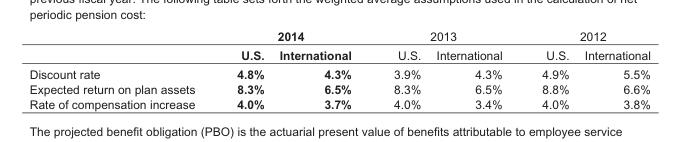table: (28, 28, 649, 110)
table column: (28, 28, 215, 110), (271, 28, 371, 110), (427, 28, 521, 110), (576, 28, 649, 110), (215, 28, 271, 110), (371, 28, 427, 110), (521, 28, 576, 110)
table column header: (28, 28, 649, 64)
table row: (28, 45, 649, 64), (28, 28, 649, 45), (28, 64, 649, 81), (28, 81, 649, 96), (28, 96, 649, 110)
table spanning cell: (215, 28, 371, 45), (371, 28, 521, 45), (521, 28, 649, 45)
